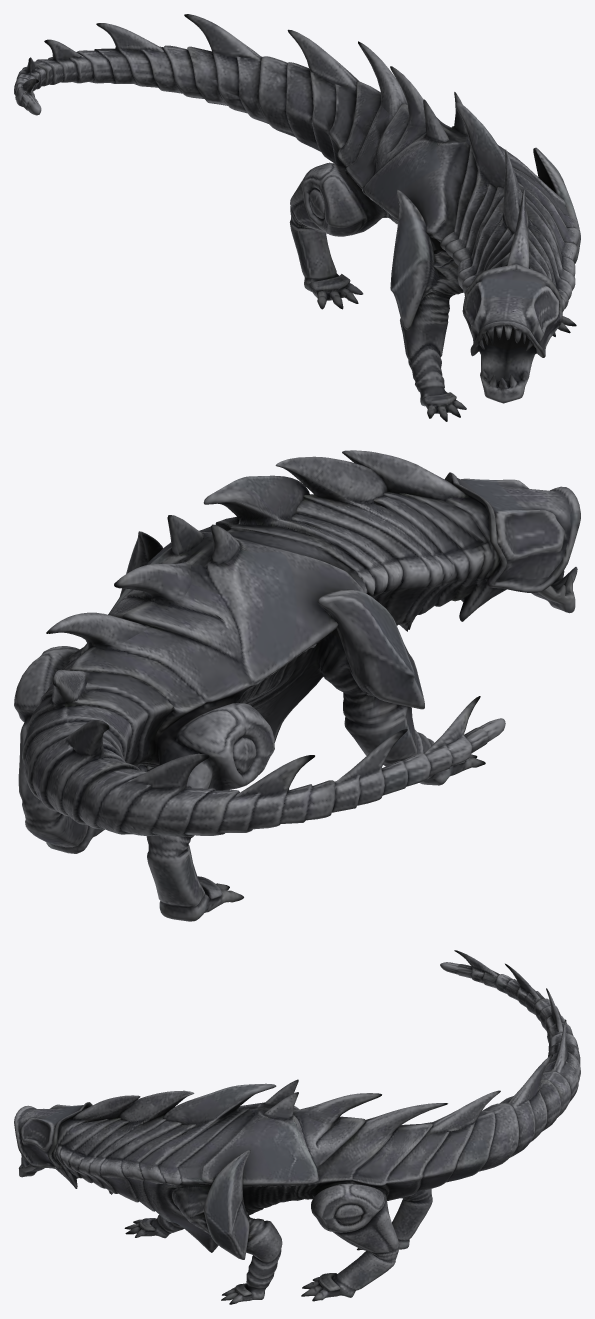
Rendered from MZ4250 - Steel Predator.glb.
3 views of the same model, one above another, from view 1: azimuth 30°, elevation 25°; view 2: azimuth 150°, elevation 25°; view 3: azimuth 270°, elevation 25° (orthographic). The views are drawn at different scales.
Visible parts, largest first — view 1: ORGANIC BASE SPHERE.002; view 2: ORGANIC BASE SPHERE.002; view 3: ORGANIC BASE SPHERE.002.
Boxes of the visible parts, x1,y1,x2,y2 form: ORGANIC BASE SPHERE.002: (14, 14, 580, 421); ORGANIC BASE SPHERE.002: (14, 450, 580, 921); ORGANIC BASE SPHERE.002: (14, 950, 580, 1304).
Size of the model in its own units: 1.23 by 0.699 by 1.79.
1 material, 1 textured.
